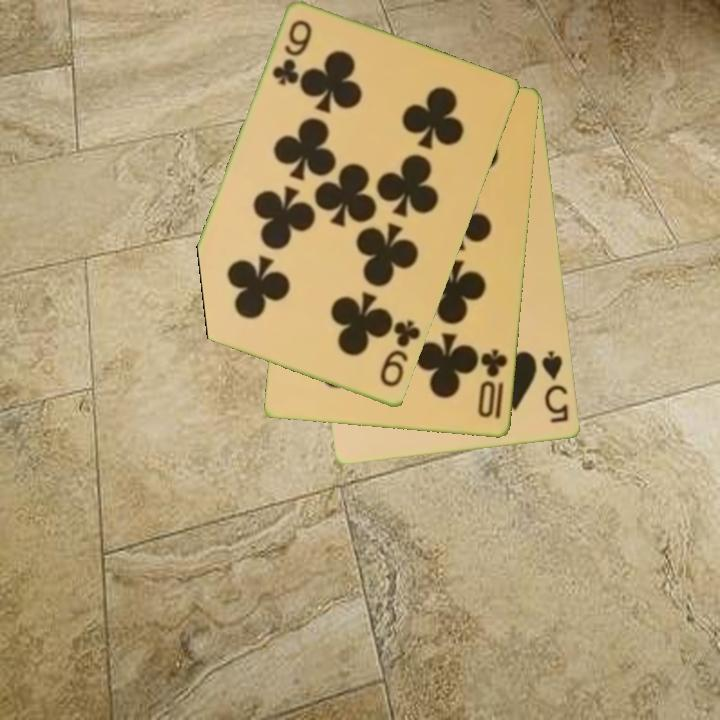10c: (475, 346, 511, 422)
5s: (538, 347, 572, 426)
9c: (376, 317, 424, 391), (269, 16, 315, 89)
